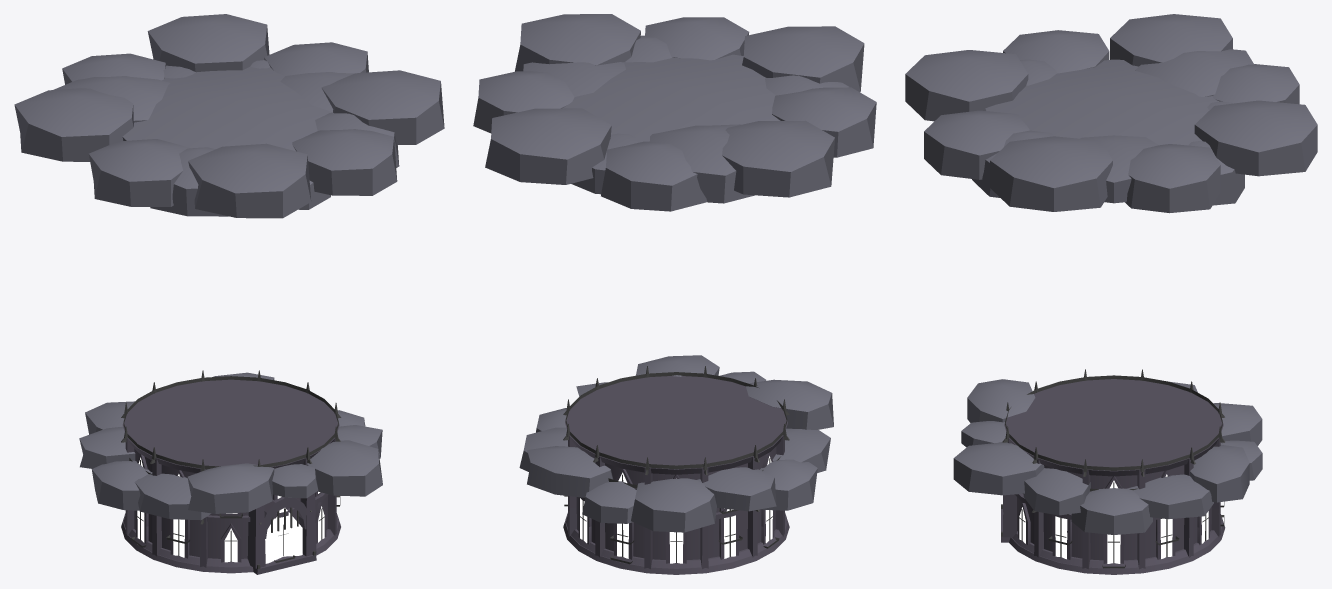
The model's file is CentralGothicTower_Kit.fbx.
The picture shows the model from 3 angles, left to right: view 1: azimuth 30°, elevation 25°; view 2: azimuth 150°, elevation 25°; view 3: azimuth 270°, elevation 25°; orthographic projection. The views are drawn at different scales.
Visible parts, largest first — view 1: Cloud_Ring_Top, Tower_Mid_Segment, Cloud_Ring_Bottom, Tower_Base_Entrance; view 2: Cloud_Ring_Top, Tower_Mid_Segment, Cloud_Ring_Bottom, Tower_Base_Entrance; view 3: Cloud_Ring_Top, Tower_Mid_Segment, Cloud_Ring_Bottom, Tower_Base_Entrance.
Boxes of the visible parts, x1,y1,x2,y2 form: Cloud_Ring_Top: (14, 14, 444, 218); Tower_Mid_Segment: (121, 370, 341, 567); Cloud_Ring_Bottom: (79, 372, 382, 520); Tower_Base_Entrance: (121, 458, 340, 574); Cloud_Ring_Top: (473, 14, 876, 211); Tower_Mid_Segment: (563, 366, 789, 568); Cloud_Ring_Bottom: (519, 355, 833, 532); Tower_Base_Entrance: (563, 456, 789, 574); Cloud_Ring_Top: (905, 14, 1317, 213); Tower_Mid_Segment: (1002, 369, 1225, 569); Cloud_Ring_Bottom: (953, 379, 1262, 534); Tower_Base_Entrance: (1001, 442, 1225, 574).
Size of the model in its own units: 133 by 155 by 131.
